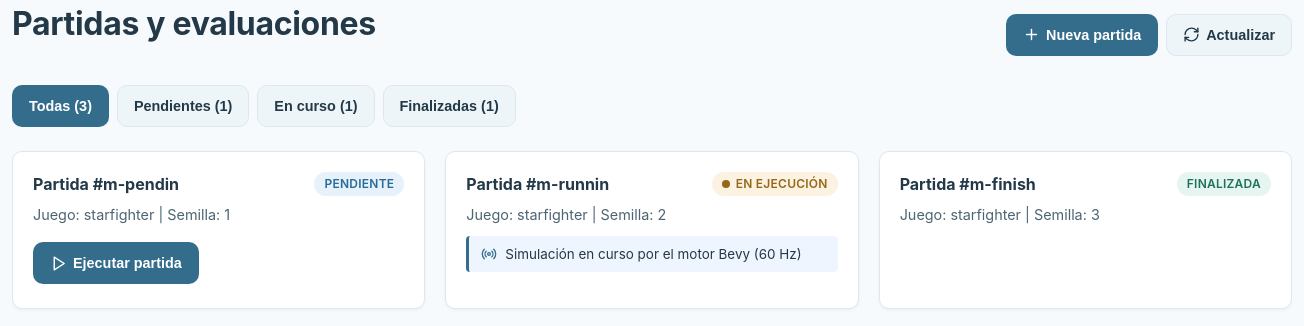
Test: Sprint FQ-3: Match Creation, Configuration & Live Run Workflow › MatchesPage End-to-End Workflow › filters matches according to filter buttons
The width and height of the screenshot is (1304, 326).
Expected: the text "Partida #m-pendin" is shown, left=33, top=172, right=179, bottom=196
Expected: the text "Partida #m-runnin" is shown, left=466, top=172, right=609, bottom=196
Note: Click "En curso" filter
Step 1. Click the button "En curso (1)" → click(316, 106), box left=257, top=85, right=374, bottom=127
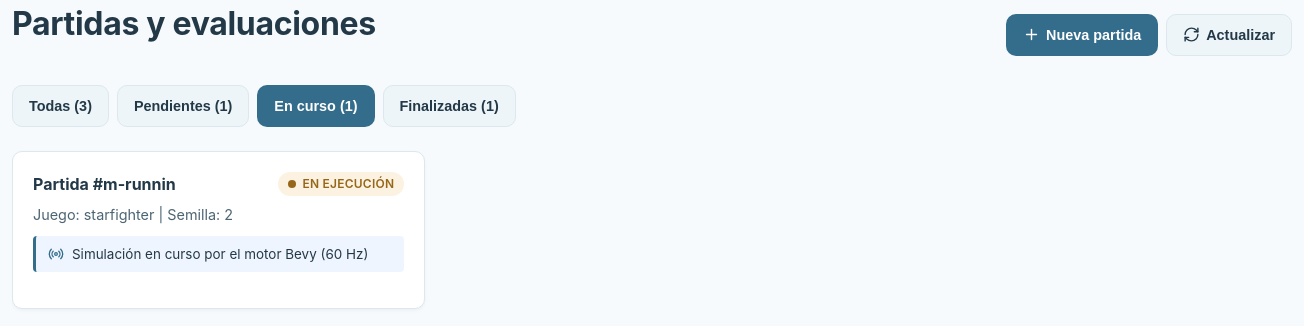
Expected: the text "Partida #m-runnin" is shown, left=33, top=172, right=176, bottom=196
Expected: the text "Partida #m-pendin" is gone
Expected: the text "Partida #m-finish" is gone
Note: Click "Finalizadas" filter
Step 2. Click the button "Finalizadas (1)" → click(449, 106), box left=382, top=85, right=516, bottom=127
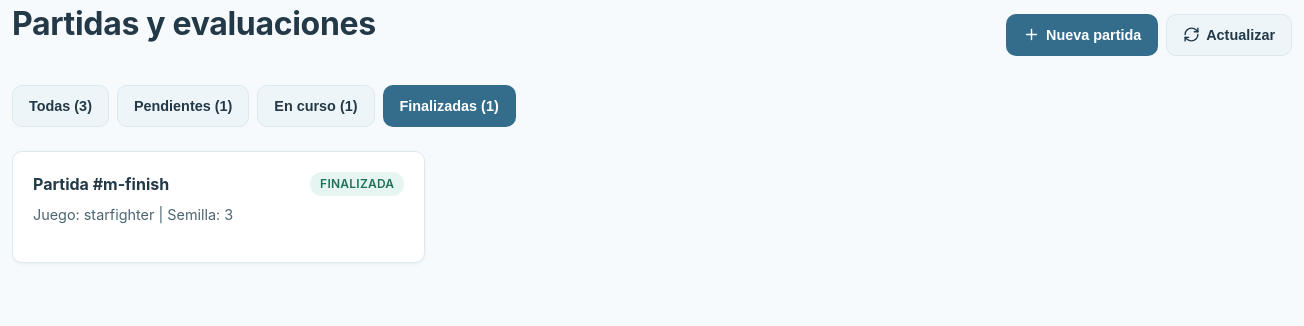
Expected: the text "Partida #m-runnin" is gone
Expected: the text "Partida #m-finish" is shown, left=33, top=172, right=169, bottom=196
